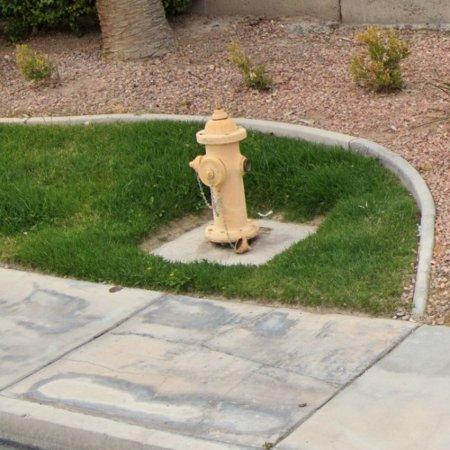a fire hydrant: (189, 109, 260, 253)
